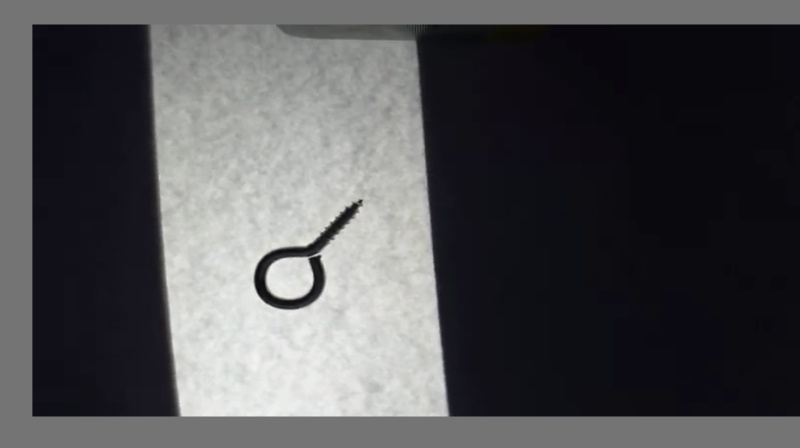O001: (250, 193, 366, 311)
